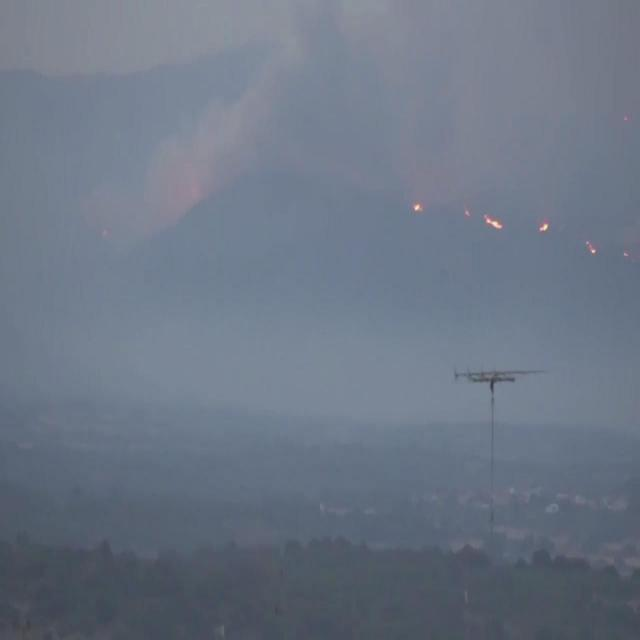Fire: (484, 212, 502, 232), (586, 240, 597, 256), (538, 218, 548, 234), (411, 198, 421, 210)
